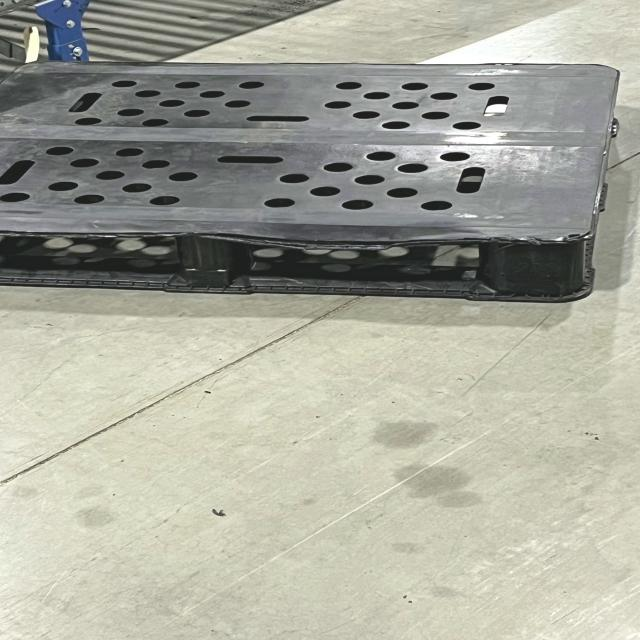igps: (0, 46, 640, 315)
